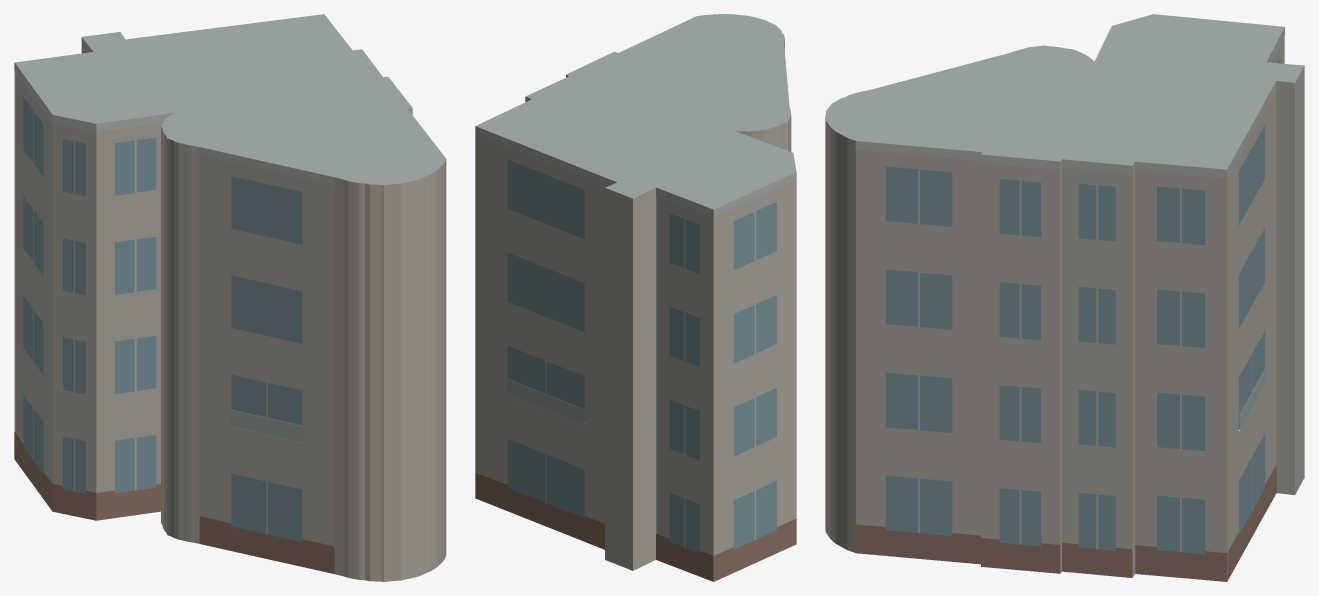
Rendered from survey-upis-32666762.glb.
The picture shows the model from 3 angles, left to right: view 1: azimuth 30°, elevation 25°; view 2: azimuth 150°, elevation 25°; view 3: azimuth 270°, elevation 25°; orthographic projection. The views are drawn at different scales.
Visible parts, largest first — view 1: survey-upis-32666762.tmp; view 2: survey-upis-32666762.tmp; view 3: survey-upis-32666762.tmp.
Boxes of the visible parts, x1,y1,x2,y2 form: survey-upis-32666762.tmp: (14, 14, 446, 581); survey-upis-32666762.tmp: (475, 14, 796, 581); survey-upis-32666762.tmp: (825, 14, 1304, 581).
Size of the model in its own units: 9.4 by 11.6 by 12.22.
